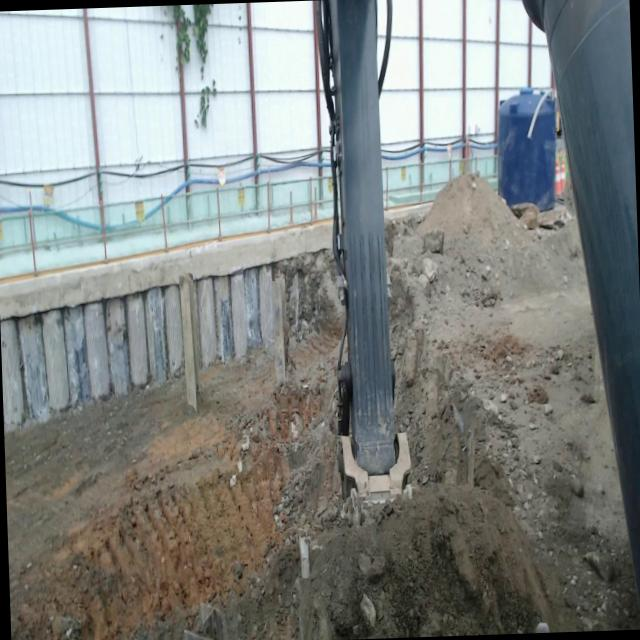cement: (0, 221, 331, 319)
red-sand: (4, 302, 343, 640), (389, 175, 639, 631), (311, 484, 551, 640)
stone: (509, 203, 566, 229), (422, 229, 443, 252)
